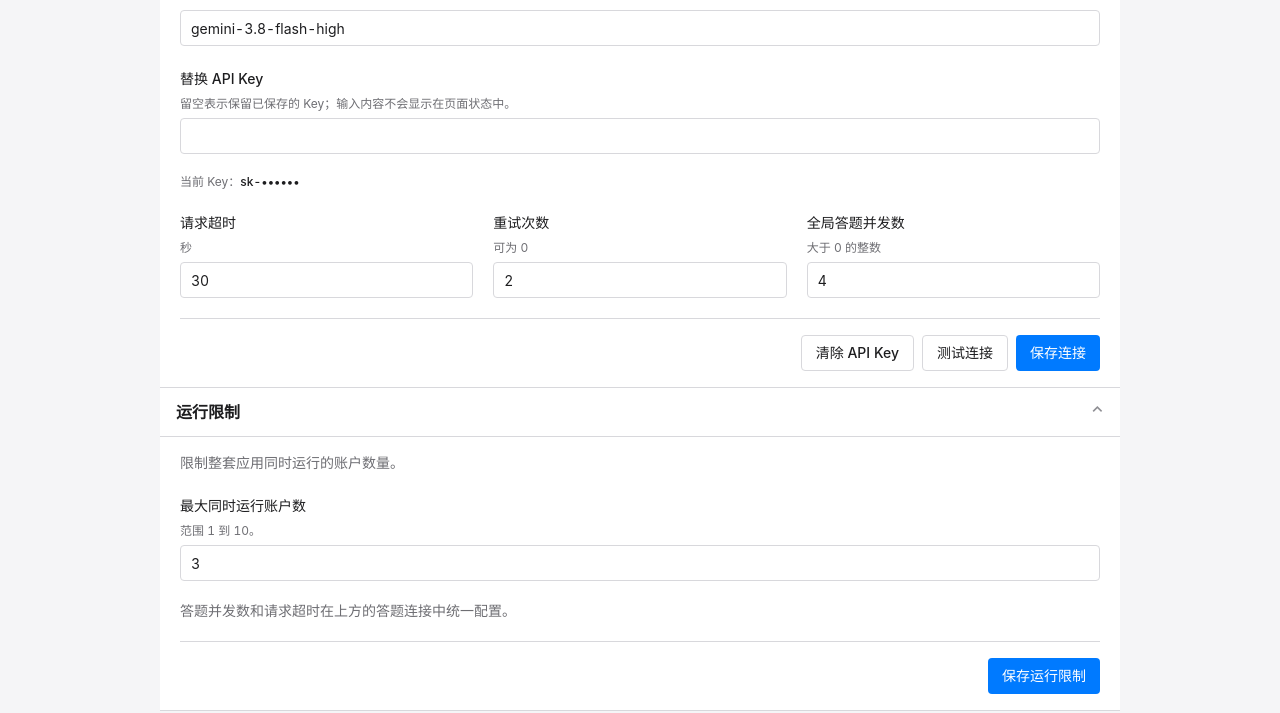
Test: preserves an acknowledged successful connection test after saving
(page scrolled)
Click the button "保存连接".
click(1058, 353)  # box [1016, 335, 1100, 371]
(page scrolled)
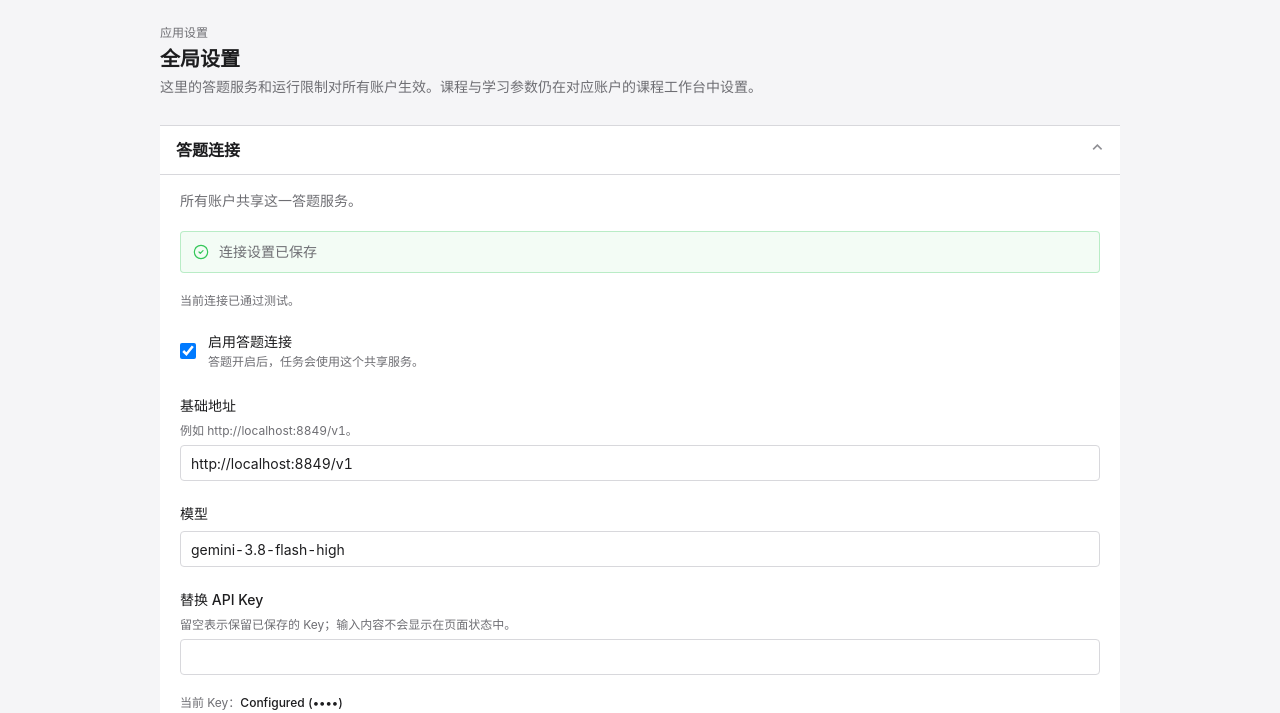
Expected: the message with test id "connection-test-status" reads "当前连接已通过测试。", [180, 293, 300, 308]
Now the text "连接设置已保存" is shown, box [219, 243, 317, 260]
